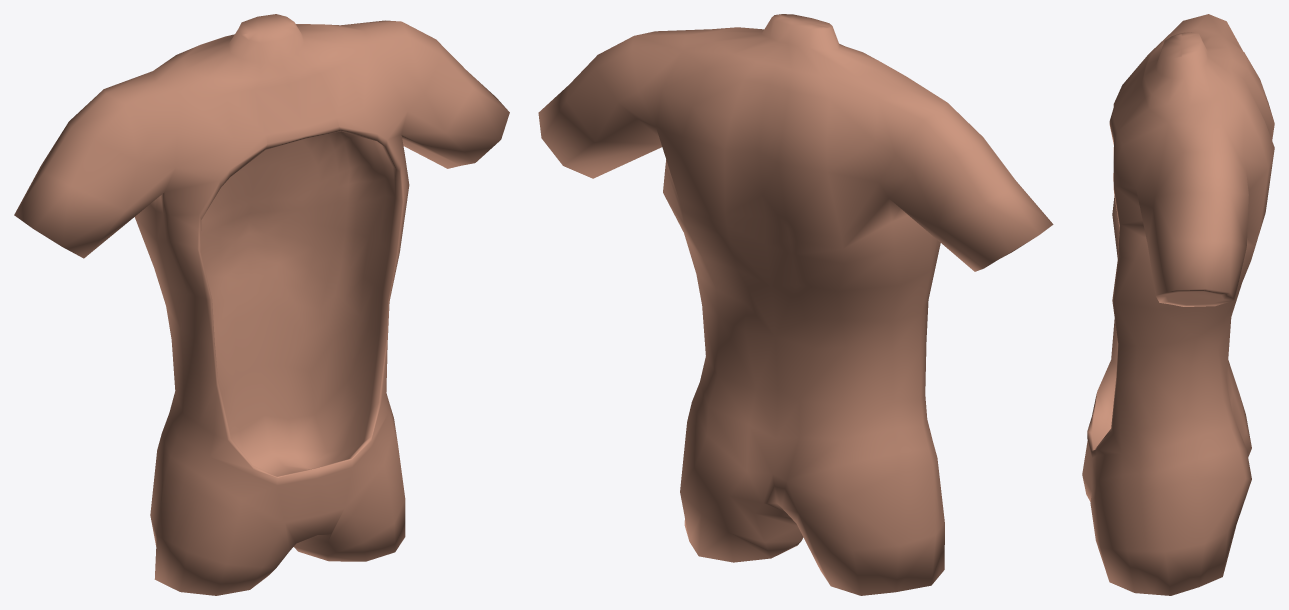
Rendered from Maniqui.fbx.
The picture shows the model from 3 angles, left to right: view 1: azimuth 30°, elevation 25°; view 2: azimuth 150°, elevation 25°; view 3: azimuth 270°, elevation 25°; orthographic projection. The views are drawn at different scales.
Visible parts, largest first — view 1: Body.004; view 2: Body.004; view 3: Body.004.
Part boxes in pixels (box(x1,y1,x2,y2)): Body.004: box(14, 14, 509, 595); Body.004: box(538, 14, 1053, 595); Body.004: box(1082, 14, 1274, 595).
Bounding box in the file's own units: 299 × 310 × 108.
